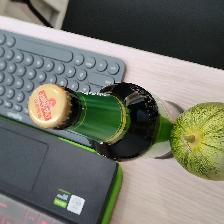gua: (178, 102, 224, 171)
